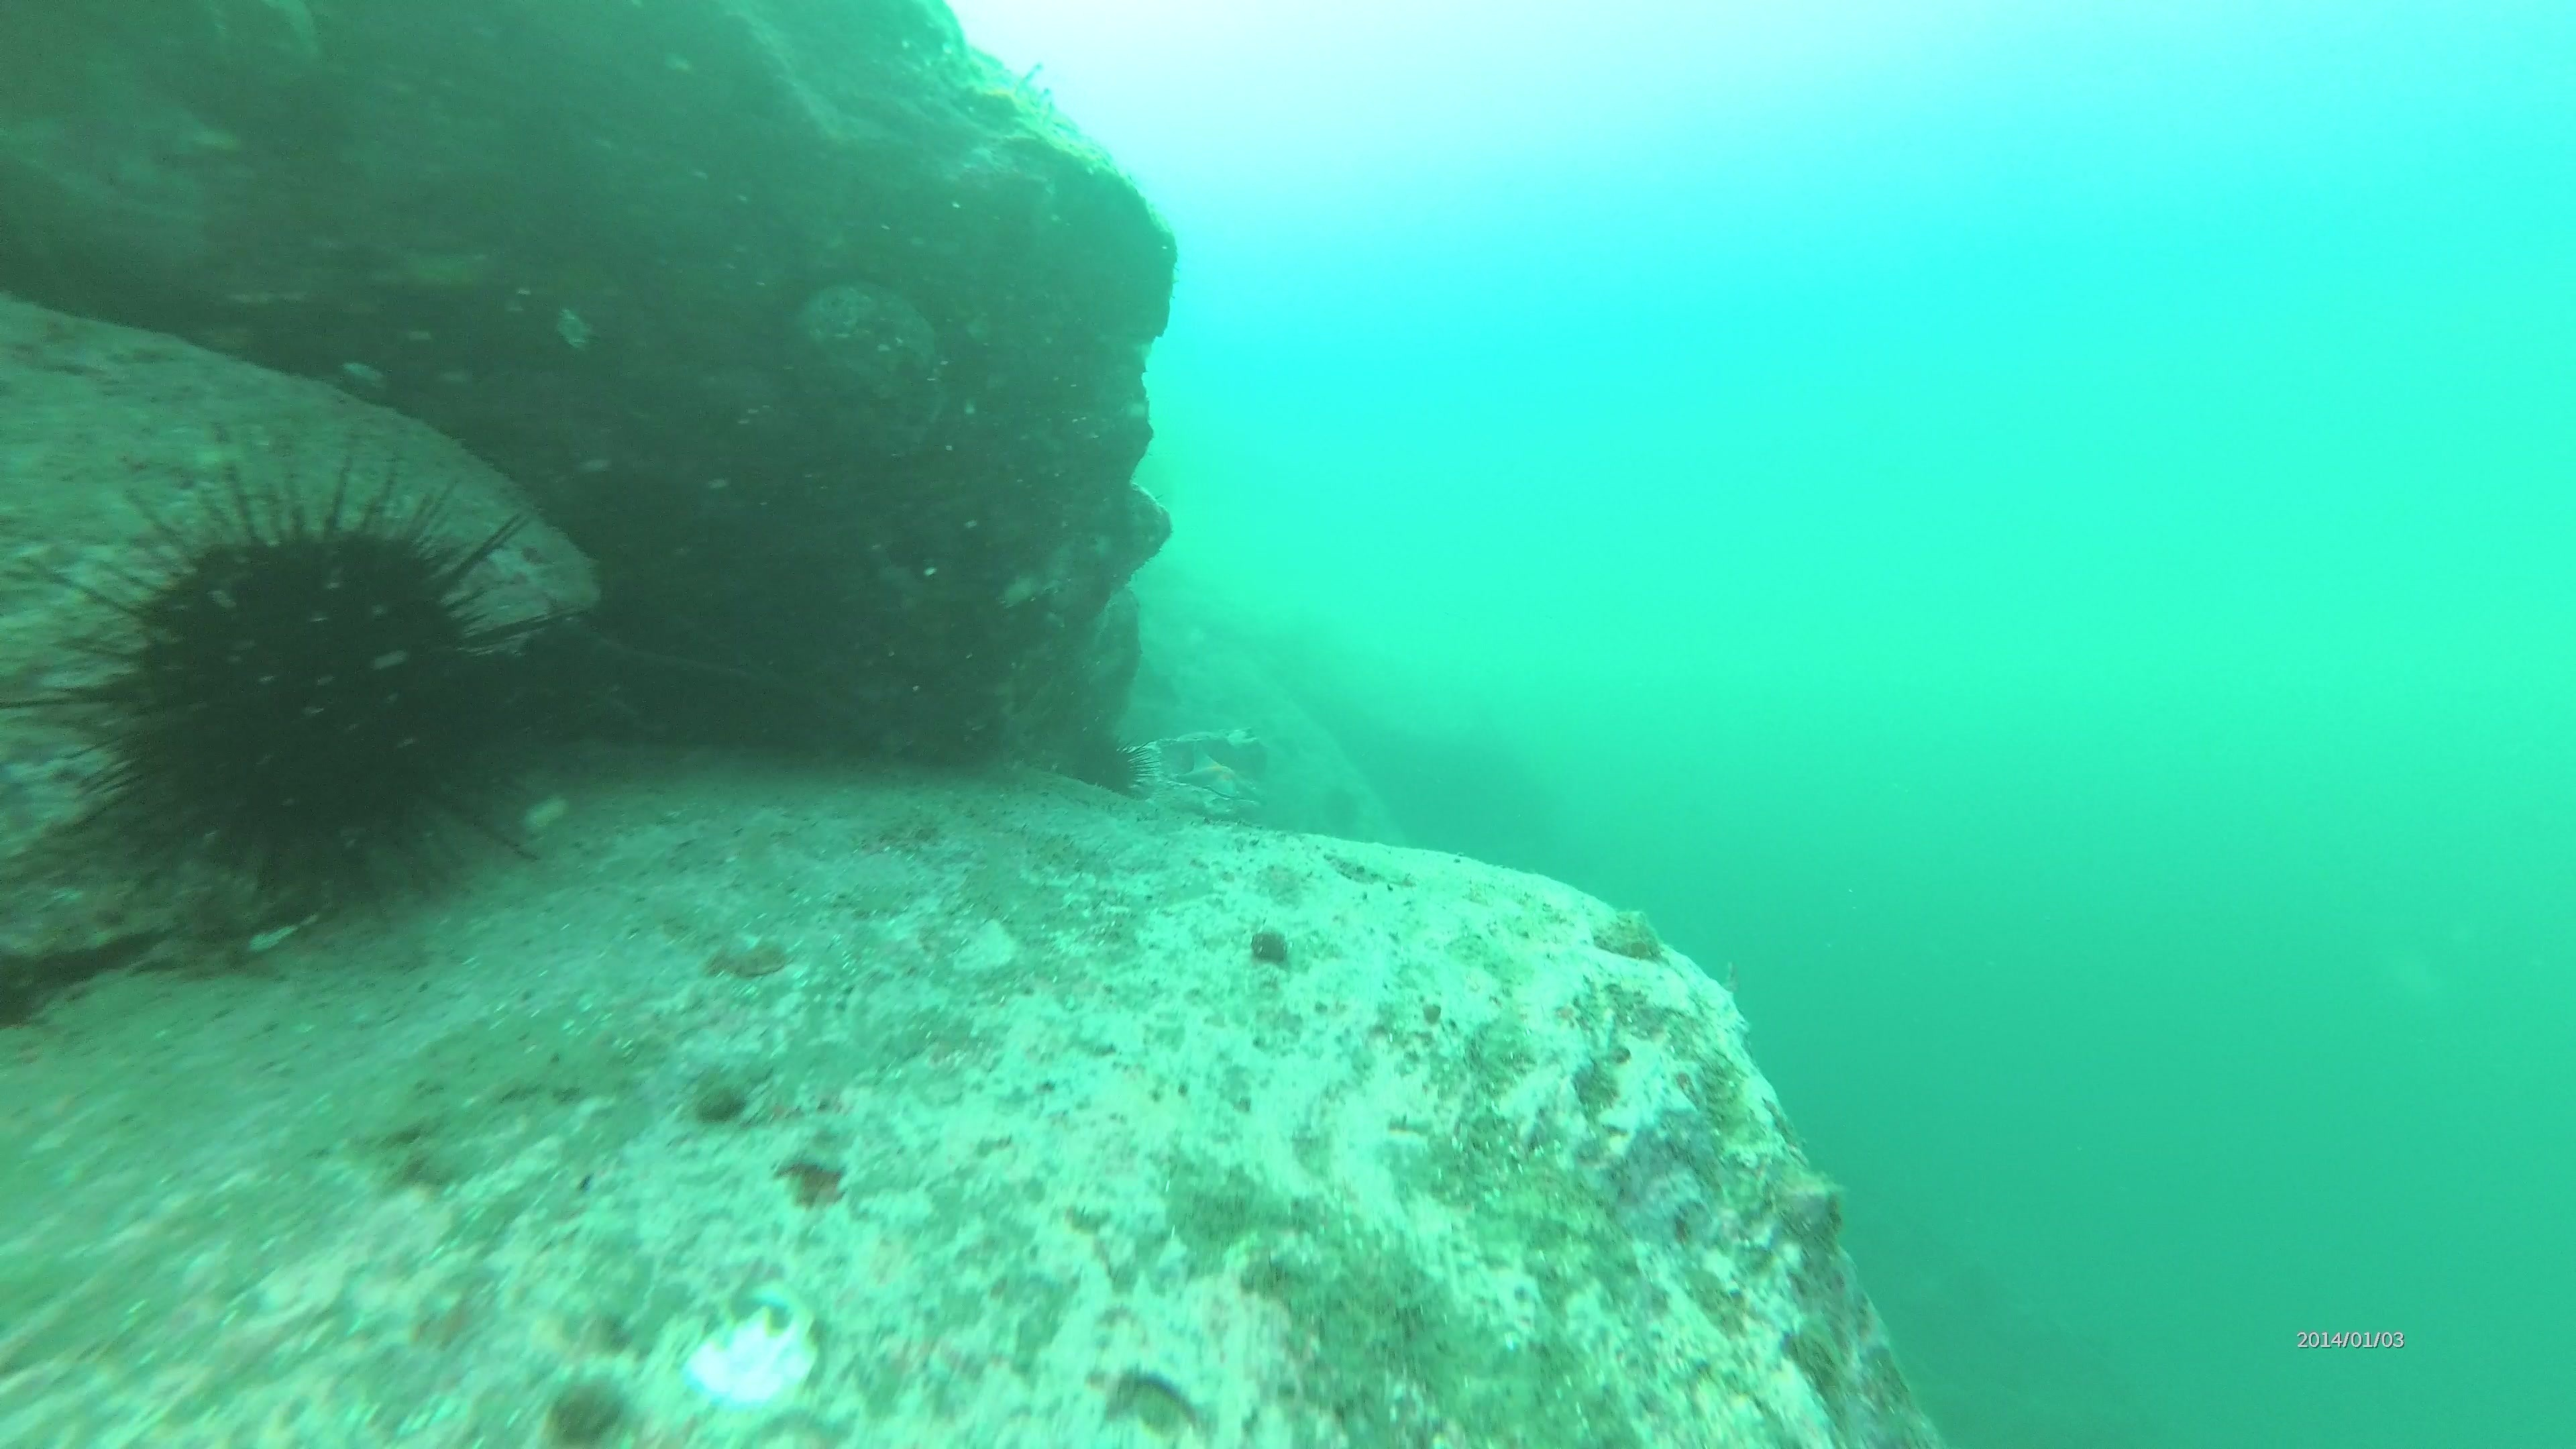echinus: (30, 453, 557, 929)
holothurian: (1065, 736, 1152, 805)
starfish: (1178, 738, 1269, 807)
